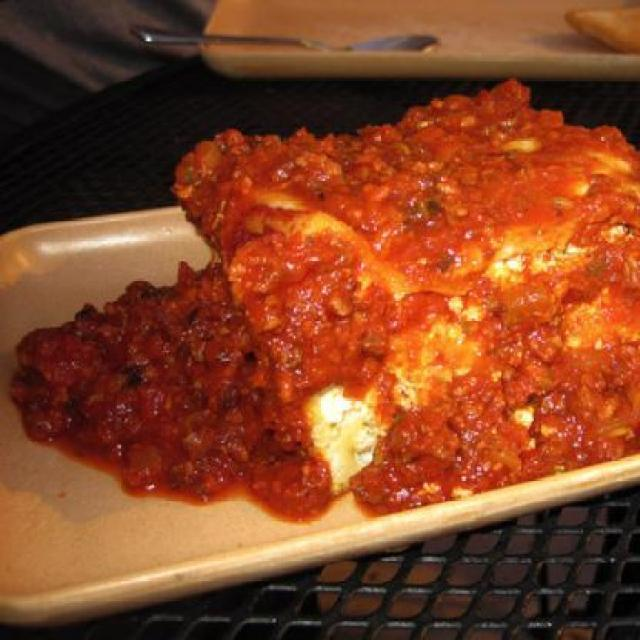Lasagna: (164, 88, 636, 510)
